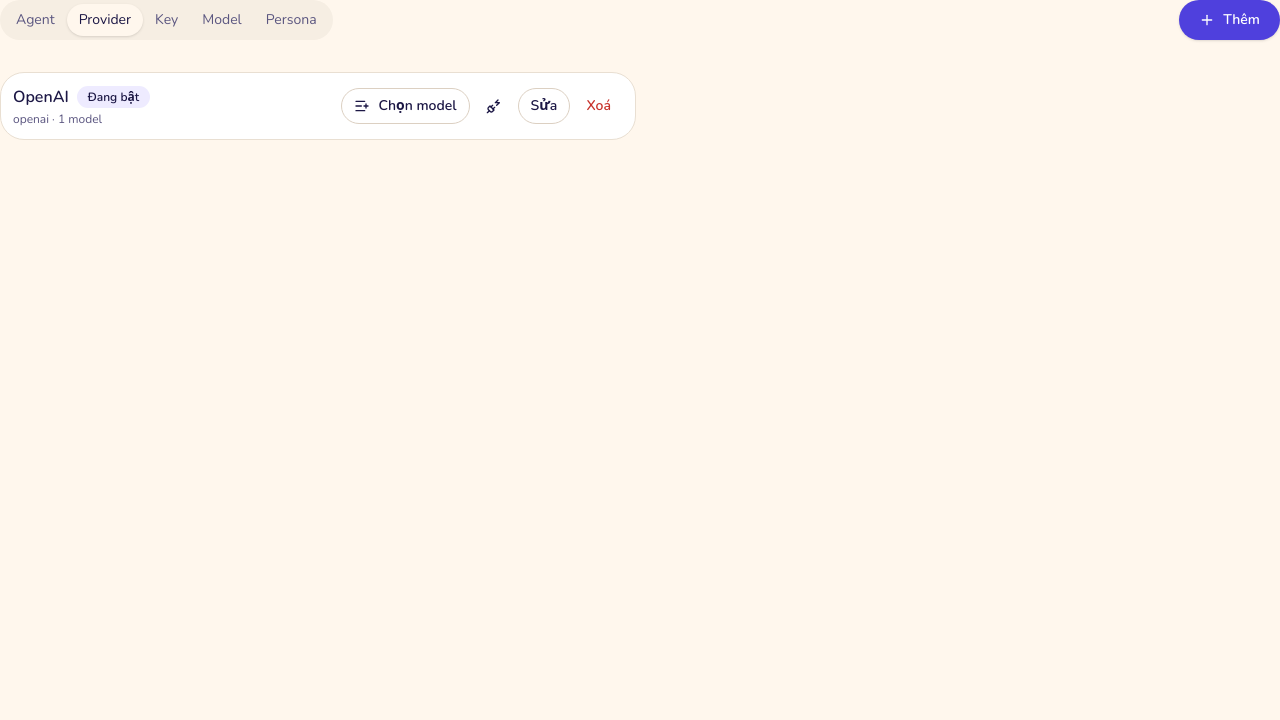
Studio — nút cấp tab nằm ở hàng tab › bấm provider-add ở hàng tab → mở dialog
This screenshot has width=1280, height=720.
Click the button with test id "provider-add". click: [1230, 20]
box: left=1179, top=0, right=1279, bottom=40
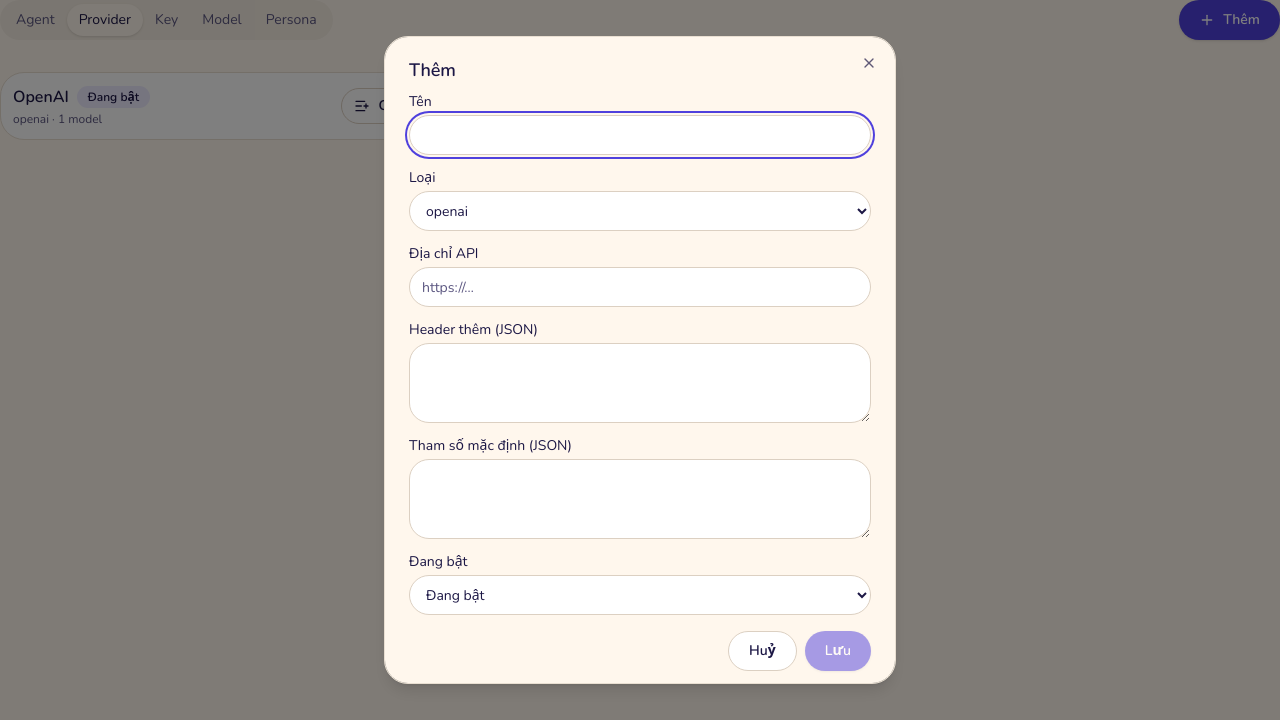
Result: the dialog is shown at left=384, top=36, right=896, bottom=684
